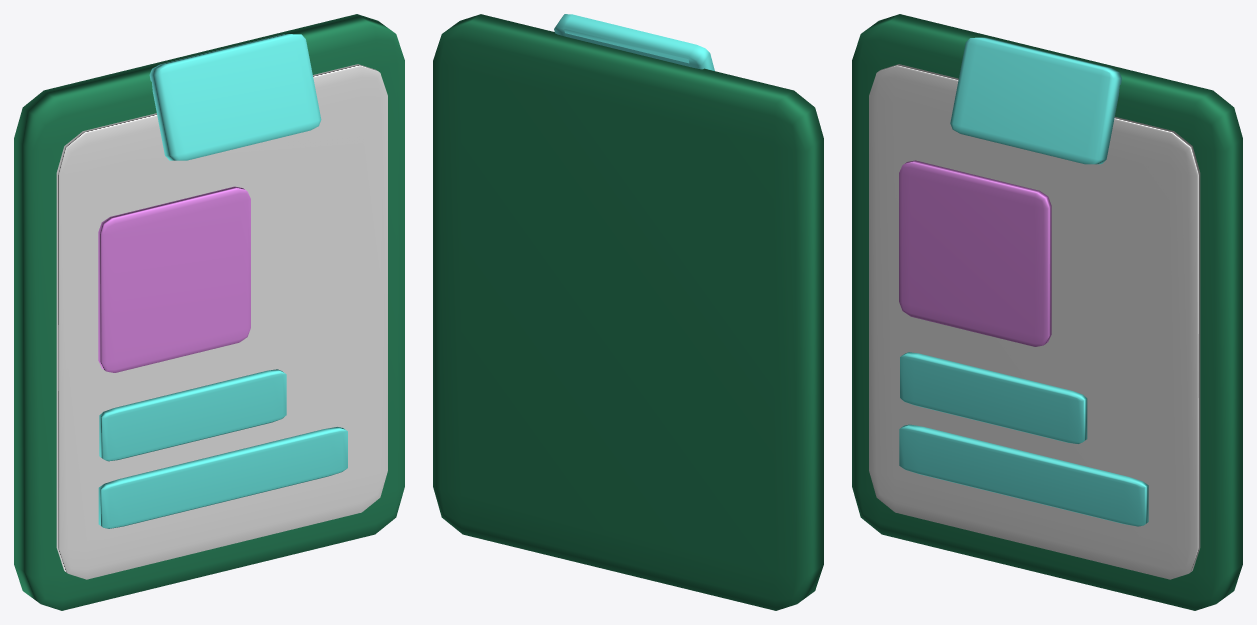
Rendered from report.glb.
3 views of the same model, side by side, from view 1: azimuth 30°, elevation 25°; view 2: azimuth 150°, elevation 25°; view 3: azimuth 330°, elevation 25° (orthographic).
Visible parts, largest first — view 1: Report; view 2: Report; view 3: Report.
Part boxes in pixels (x1,y1,x2,y2): Report: [14, 14, 404, 610]; Report: [433, 14, 823, 610]; Report: [852, 14, 1242, 610].
Bounding box in the file's own units: 2 × 2.69 × 0.3979.
